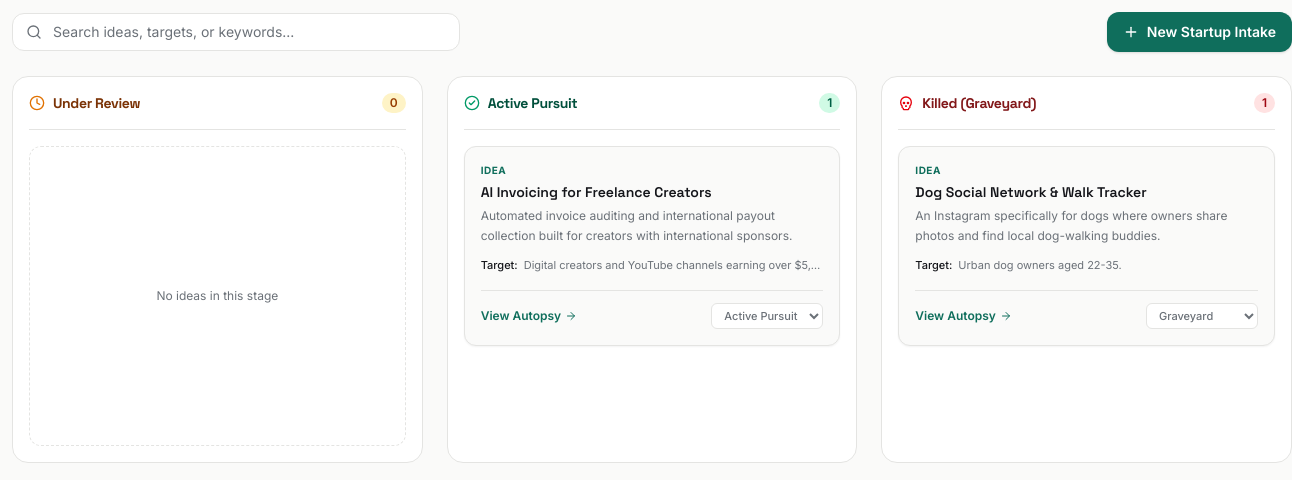
Scenario: WorkspaceView Component › filters ideas based on the search query input
The width and height of the screenshot is (1292, 480).
// Filter by "dog"
Type "dog" into the field with placeholder "Search ideas, targets, or keywords...".
click(236, 32); type("dog")  # box [12,13,460,51]
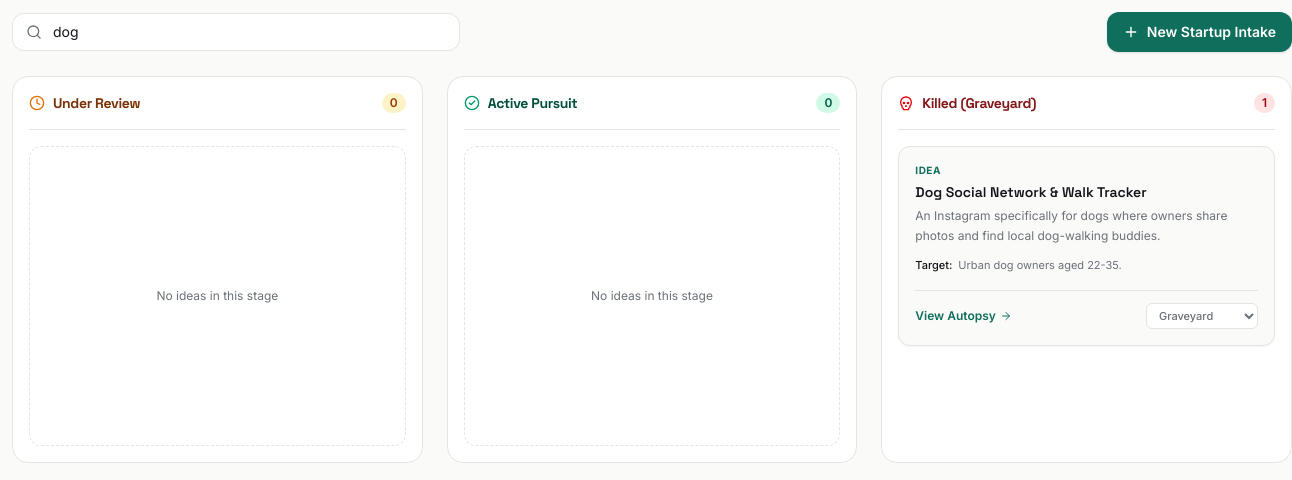
Expected: the heading "Dog Social Network & Walk Tracker" is shown, [915,183,1147,201]
Expected: the heading "AI Invoicing for Freelance Creators" is gone
